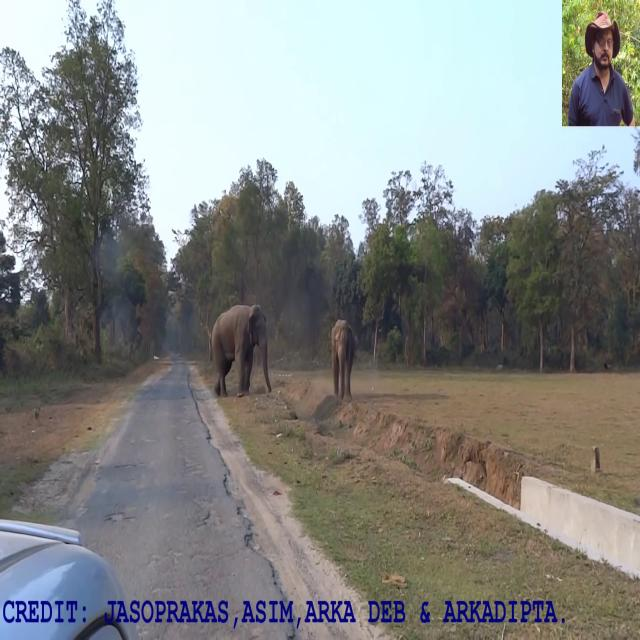Elephant: (210, 303, 272, 397), (331, 318, 355, 402)
